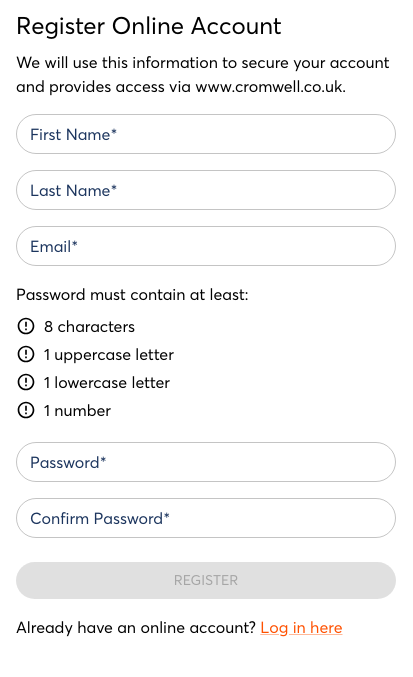
Test case: Register Page › should apply validation on email address format
This screenshot has width=413, height=677.
In the field labelled "Email *": point(206, 246) [16,226,396,266], type "johndoe"
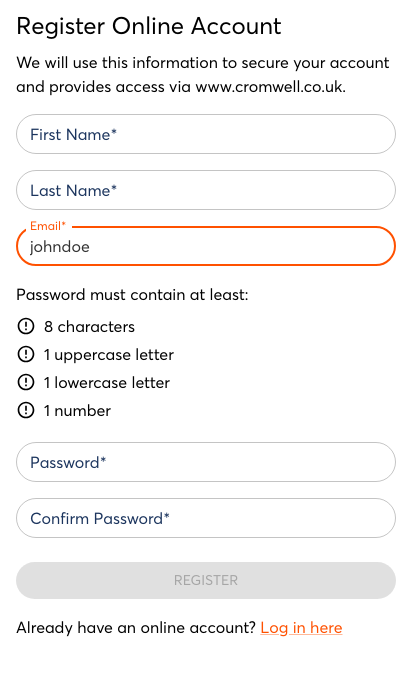
Press Tab
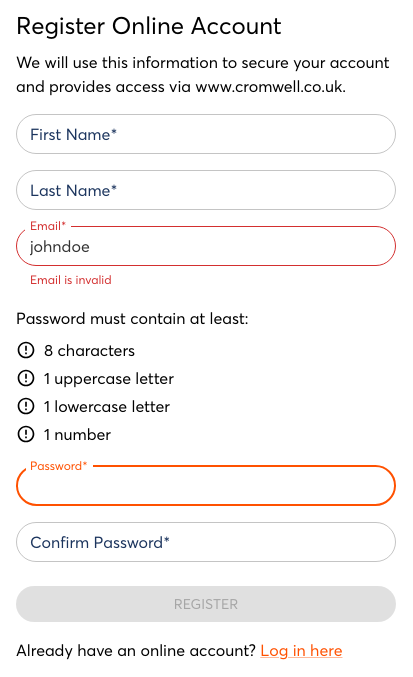
Result: the text "Email is invalid" is shown at [30,272,112,287]
